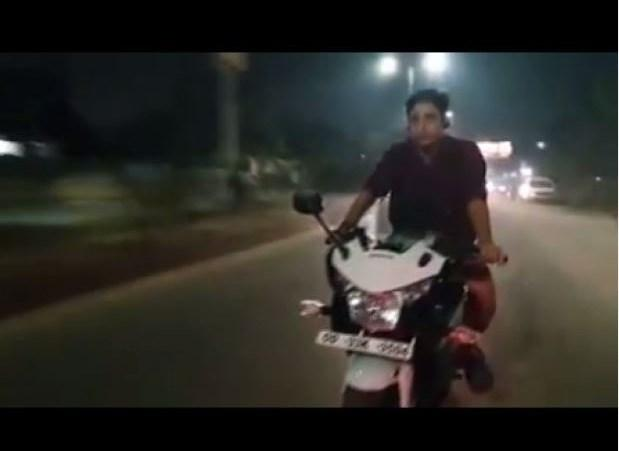nohelmet: (396, 81, 459, 157)
